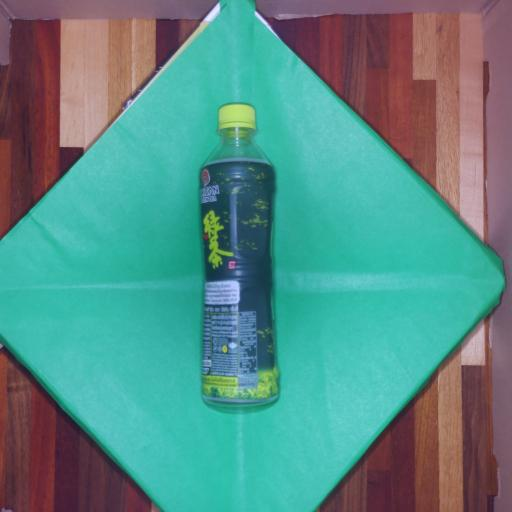bottle: (181, 92, 297, 431)
